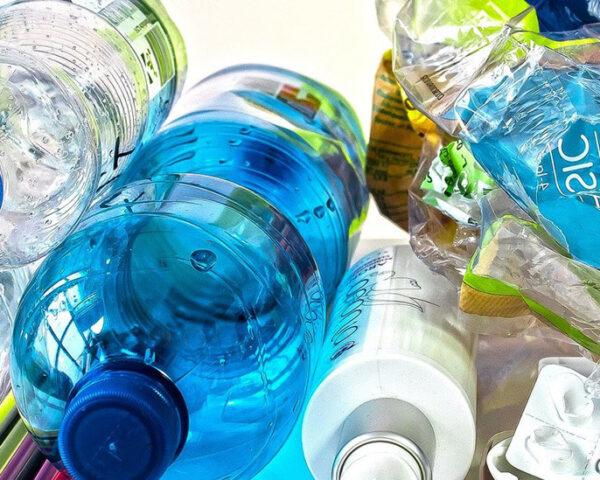plastic_bottle: (6, 42, 465, 479), (1, 1, 288, 386), (248, 139, 532, 480), (319, 326, 320, 329)
